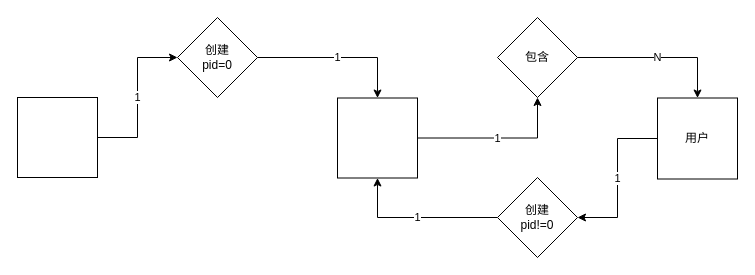
Image size: 755x275. Some labels were removed from this diagram. Each missing label, with the centre of its shape:
"管理员" goes at point (57, 137).
"组织" goes at point (377, 137).
